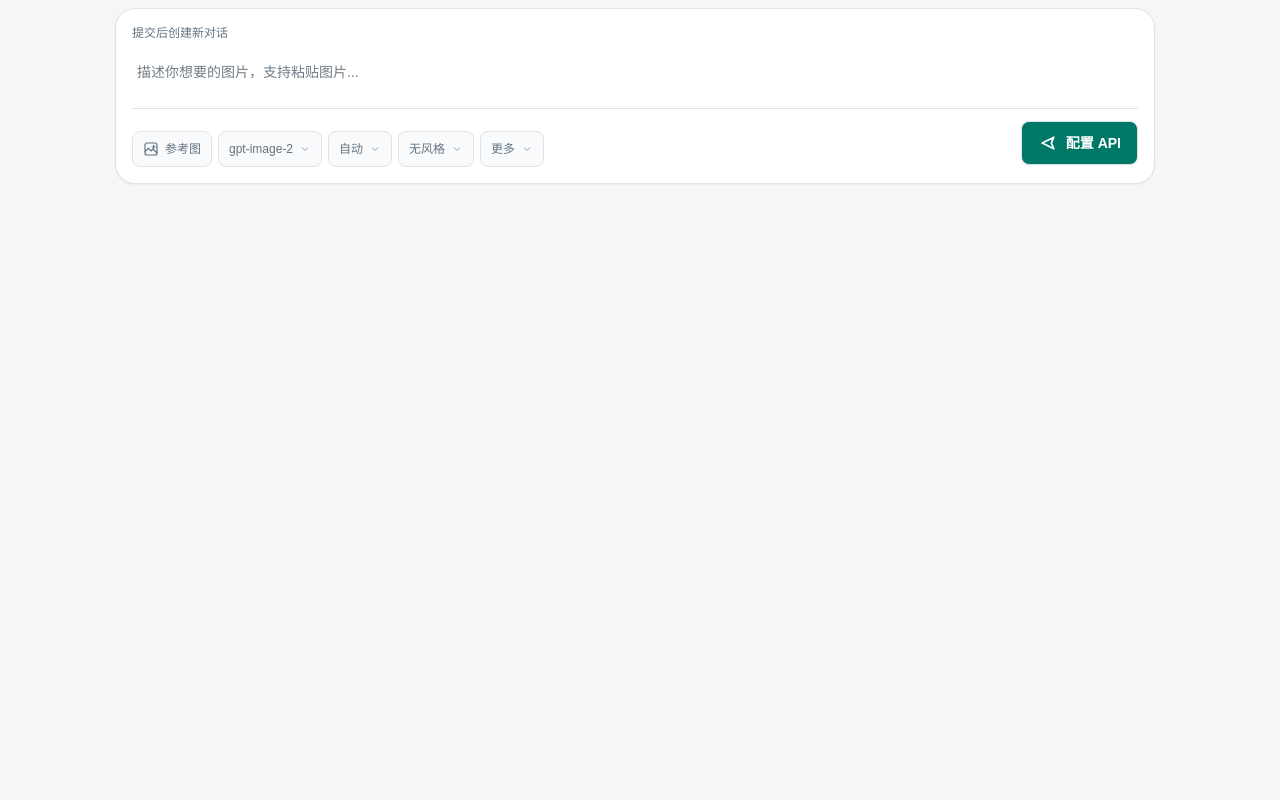
Test: InputBar › 更多工具集中保留原功能且打开参数网格时关闭菜单
Expected: the button "高级参数" is not shown
Click the button with aria-label "更多创作工具".
click(512, 149)  # box [480, 131, 544, 167]
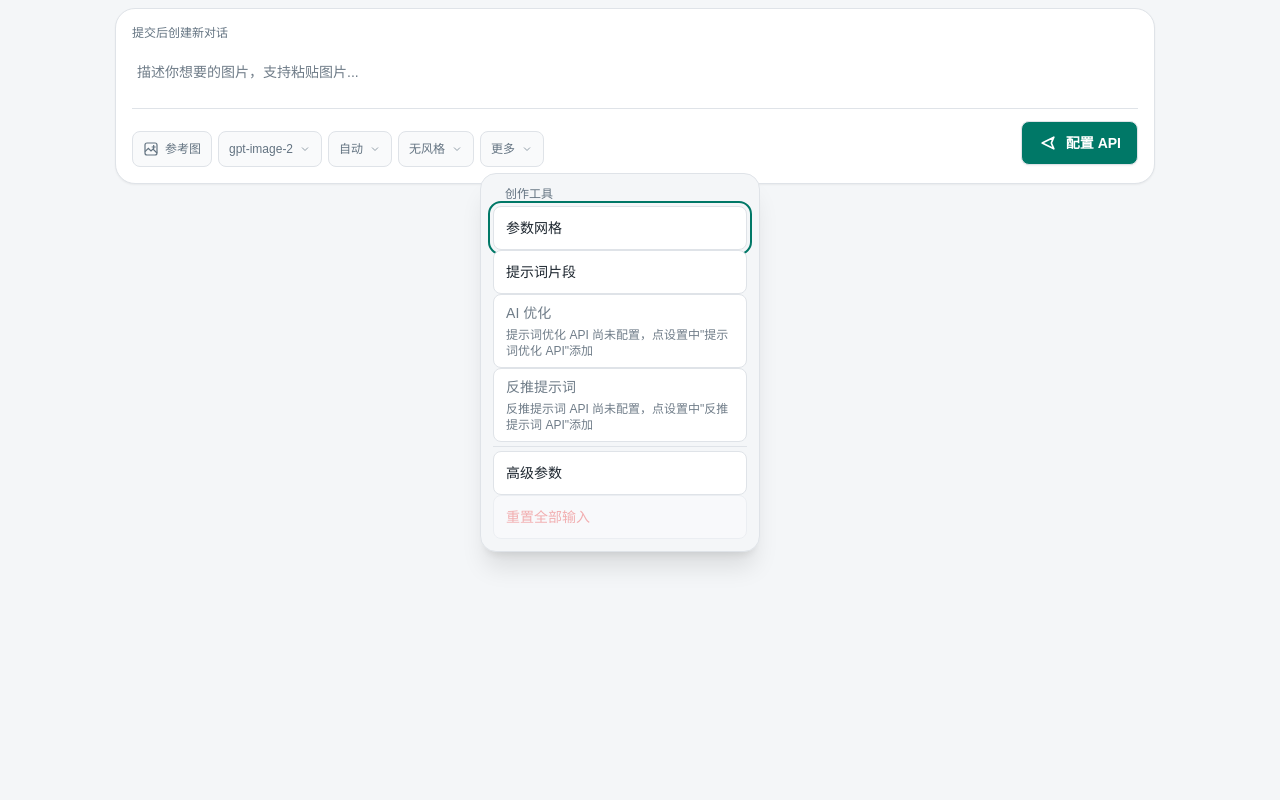
Now the button "参数网格" is shown
Now the button "提示词片段" is shown, box [493, 250, 747, 294]
Now the button with aria-label "AI 提示词优化" is shown, box [493, 294, 747, 368]
Click the button "参数网格".
click(620, 228)  # box [493, 206, 747, 250]
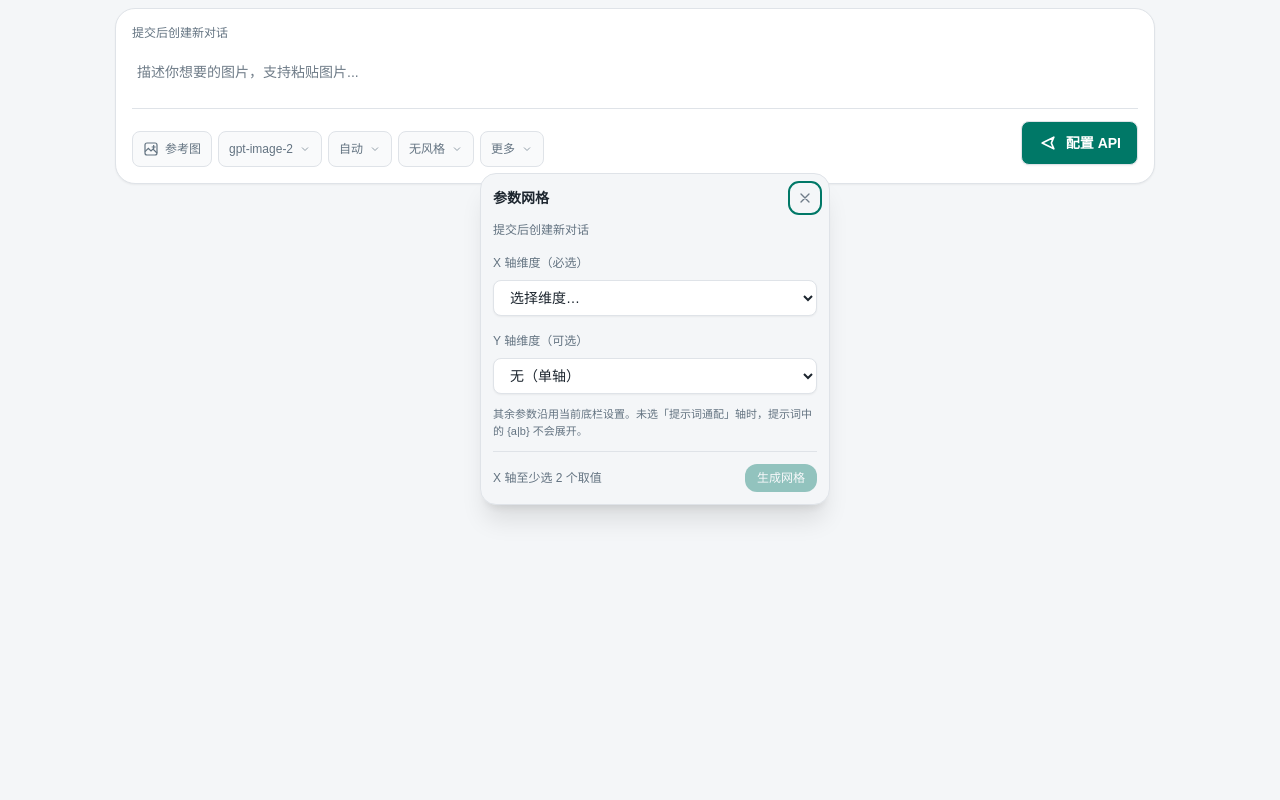
Now the dialog "参数网格" is shown, box [480, 173, 830, 505]
Now the button "生成网格" is shown, box [745, 464, 817, 492]
Click the button named "关闭参数网格".
click(805, 198)  # box [793, 186, 817, 210]
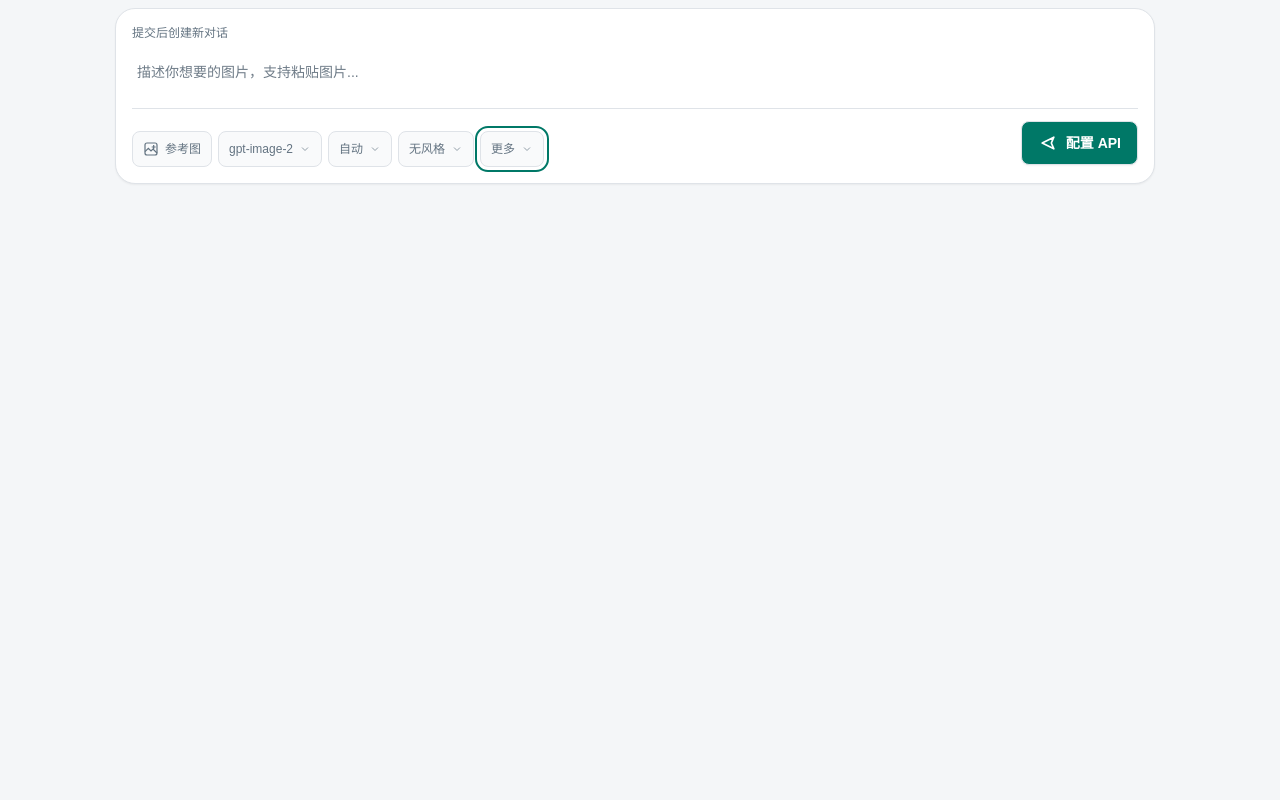
Now the heading "参数网格" is gone
